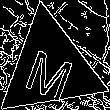M_N: (21, 35, 79, 99)
